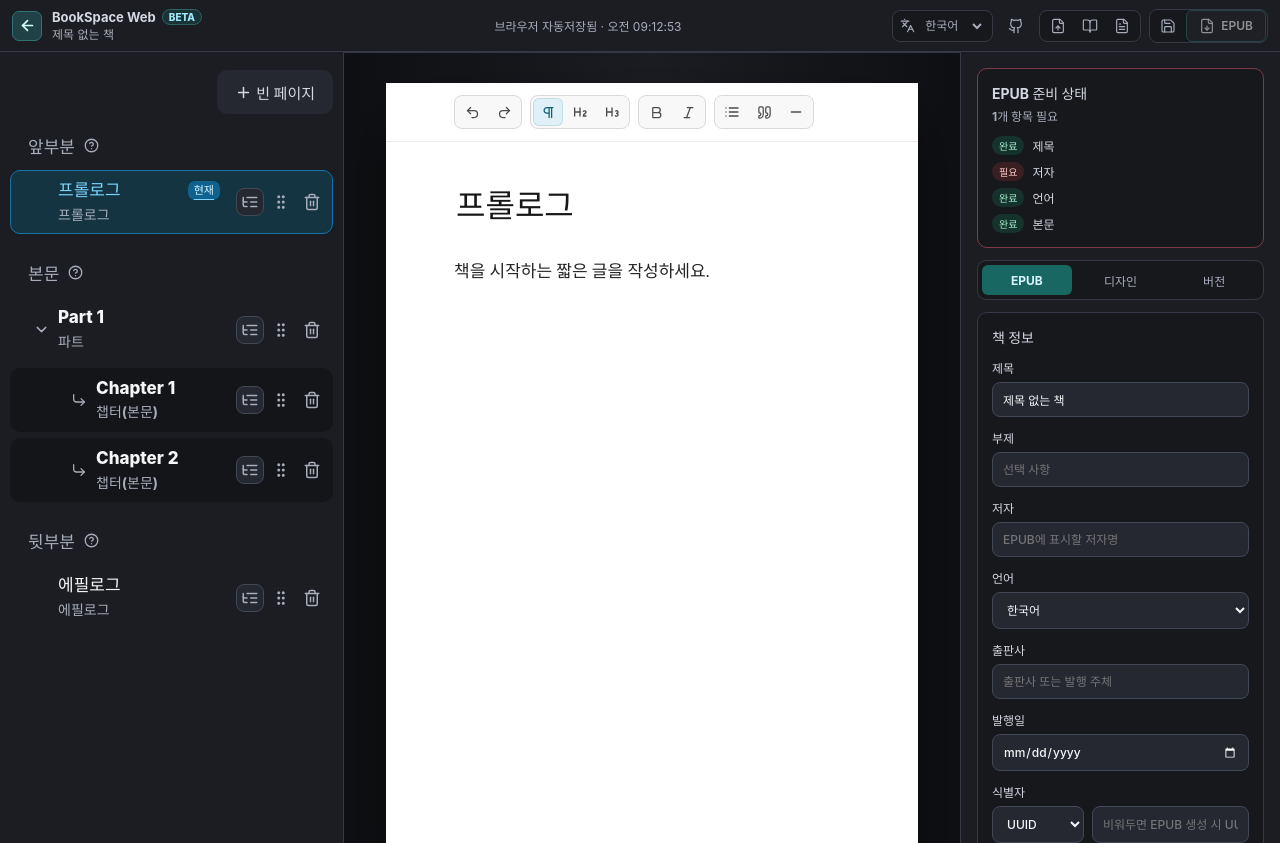
BookSpace Web editor › switches core editor chrome between Korean and English
This screenshot has width=1280, height=843.
Select "English" in the dropdown named "화면 언어". click: {"x": 953, "y": 26}
box: top-left (921, 12), bottom-right (985, 40)
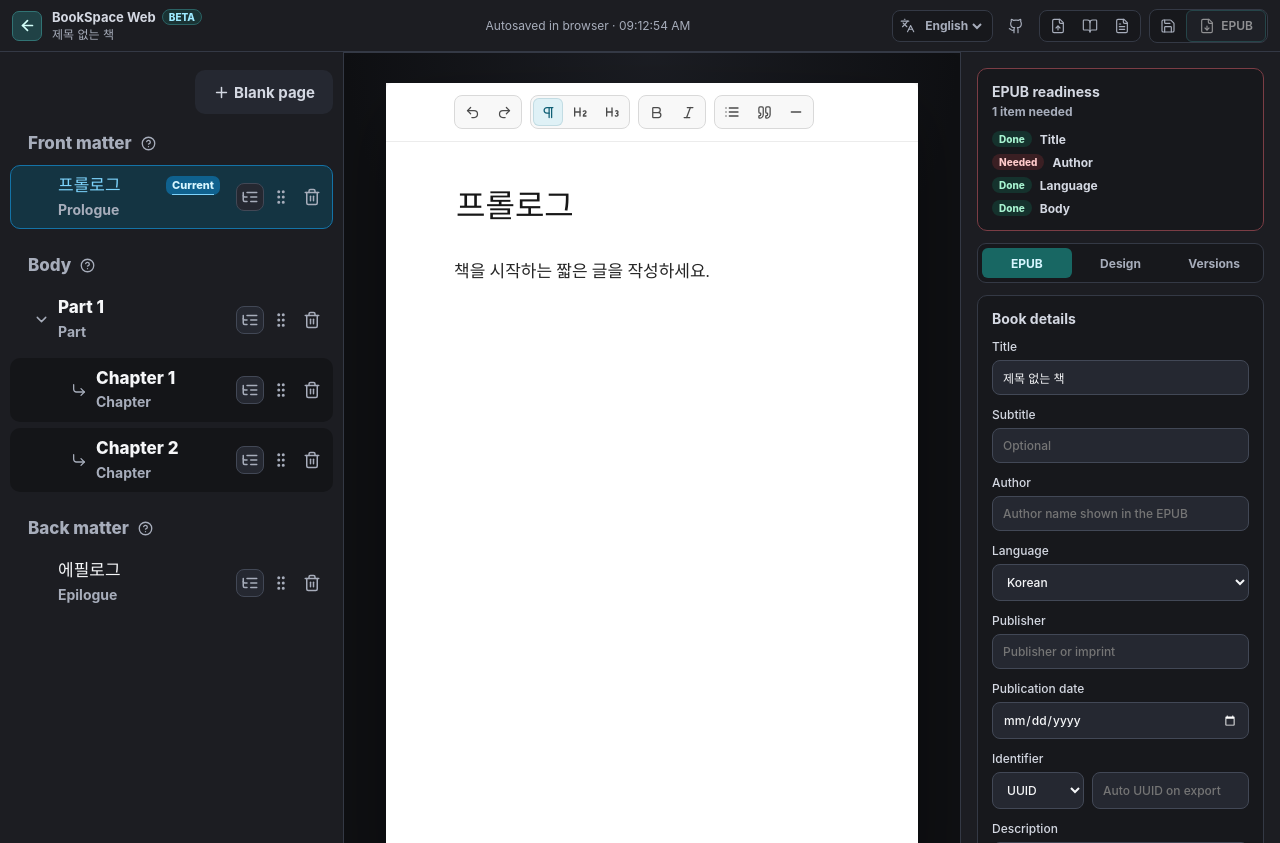
Check: the button "Blank page" is shown, box top-left (195, 70), bottom-right (333, 114)
Check: the text "Front matter" is shown, box top-left (28, 133), bottom-right (132, 153)
Check: the text "Back matter" is shown, box top-left (28, 518), bottom-right (129, 538)
Click the tab "Design". click: {"x": 1121, "y": 263}
box: top-left (1076, 248), bottom-right (1165, 278)
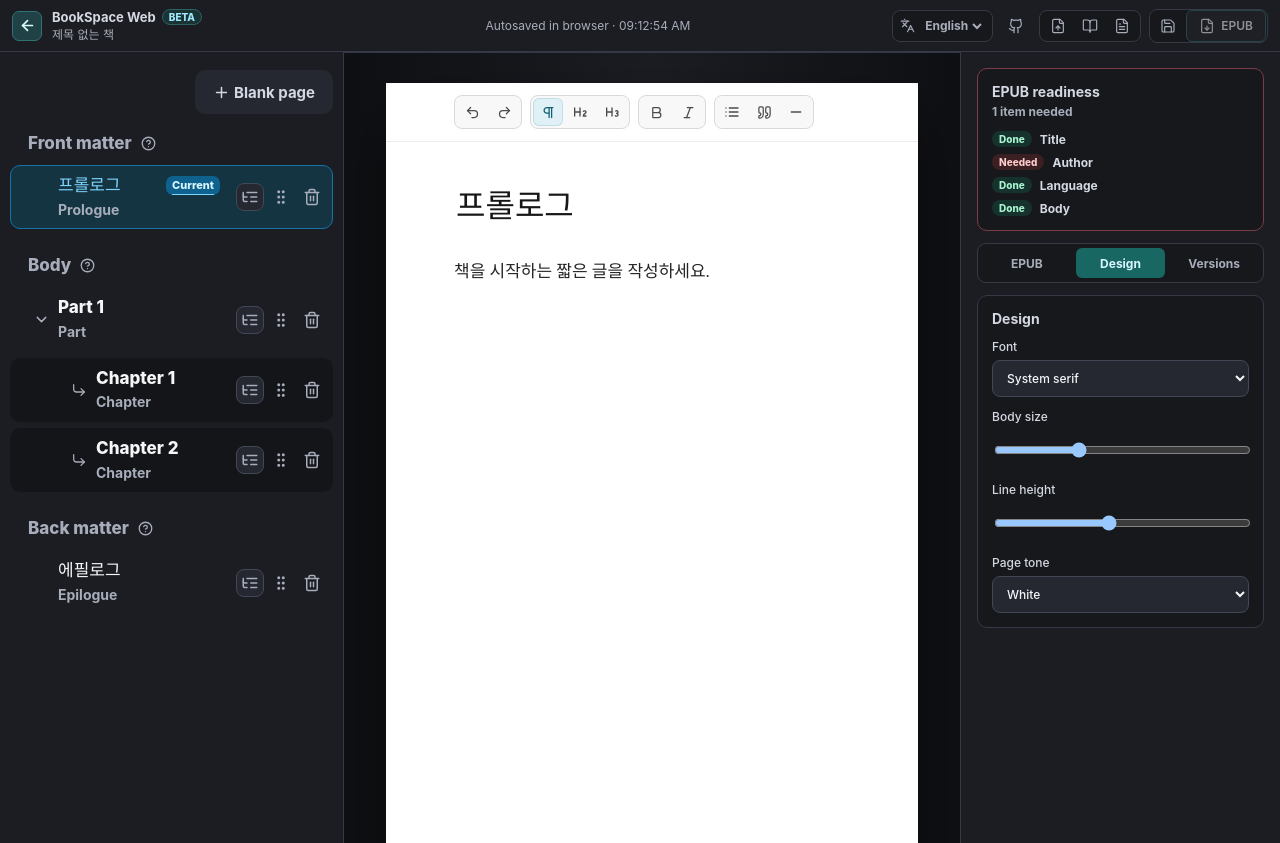
Check: the dropdown labelled "Font" is shown, box top-left (992, 360), bottom-right (1249, 397)
Click the tab "Versions". click: {"x": 1214, "y": 263}
box: top-left (1169, 248), bottom-right (1259, 278)
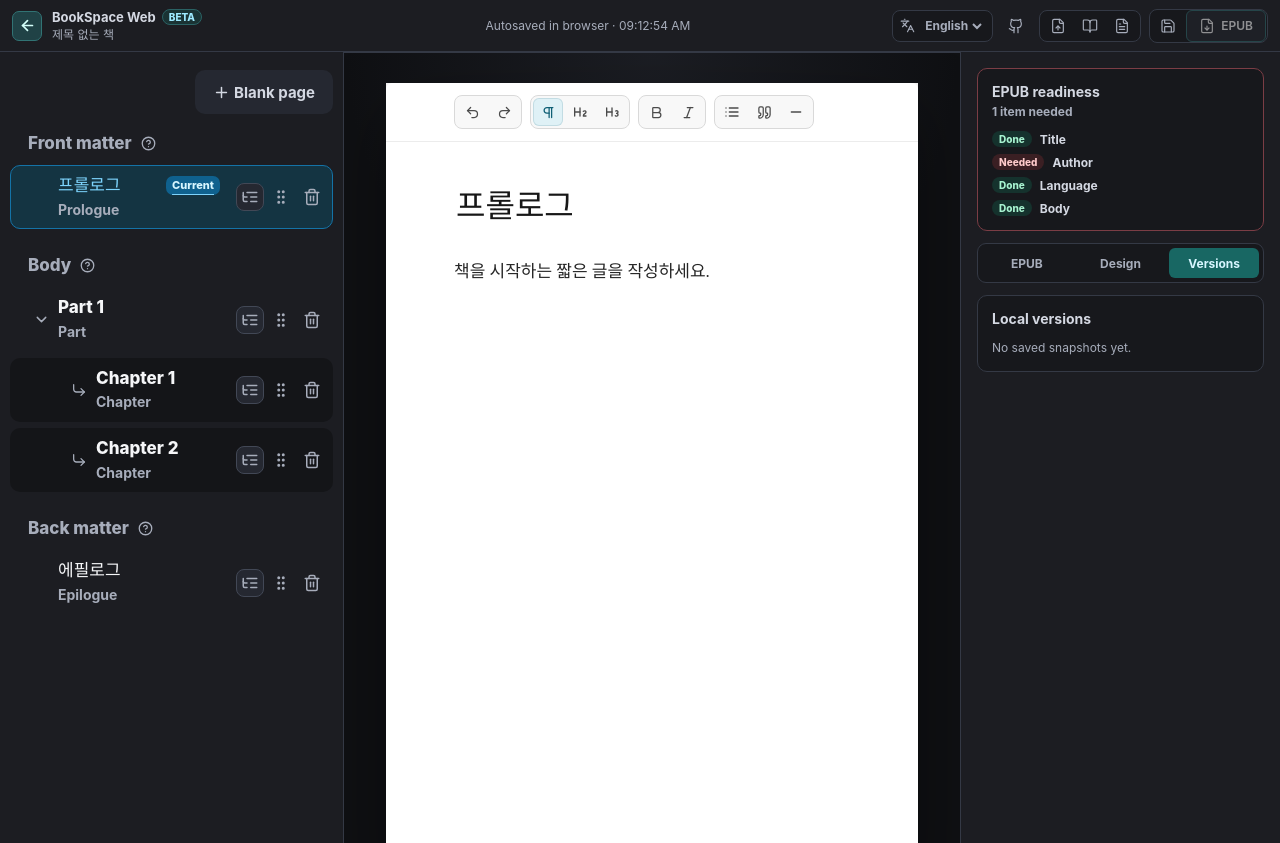
Check: the text "No saved snapshots yet." is shown, box top-left (992, 340), bottom-right (1131, 355)
Click the button named "Save project". click: {"x": 1168, "y": 26}
box: top-left (1153, 12), bottom-right (1183, 40)
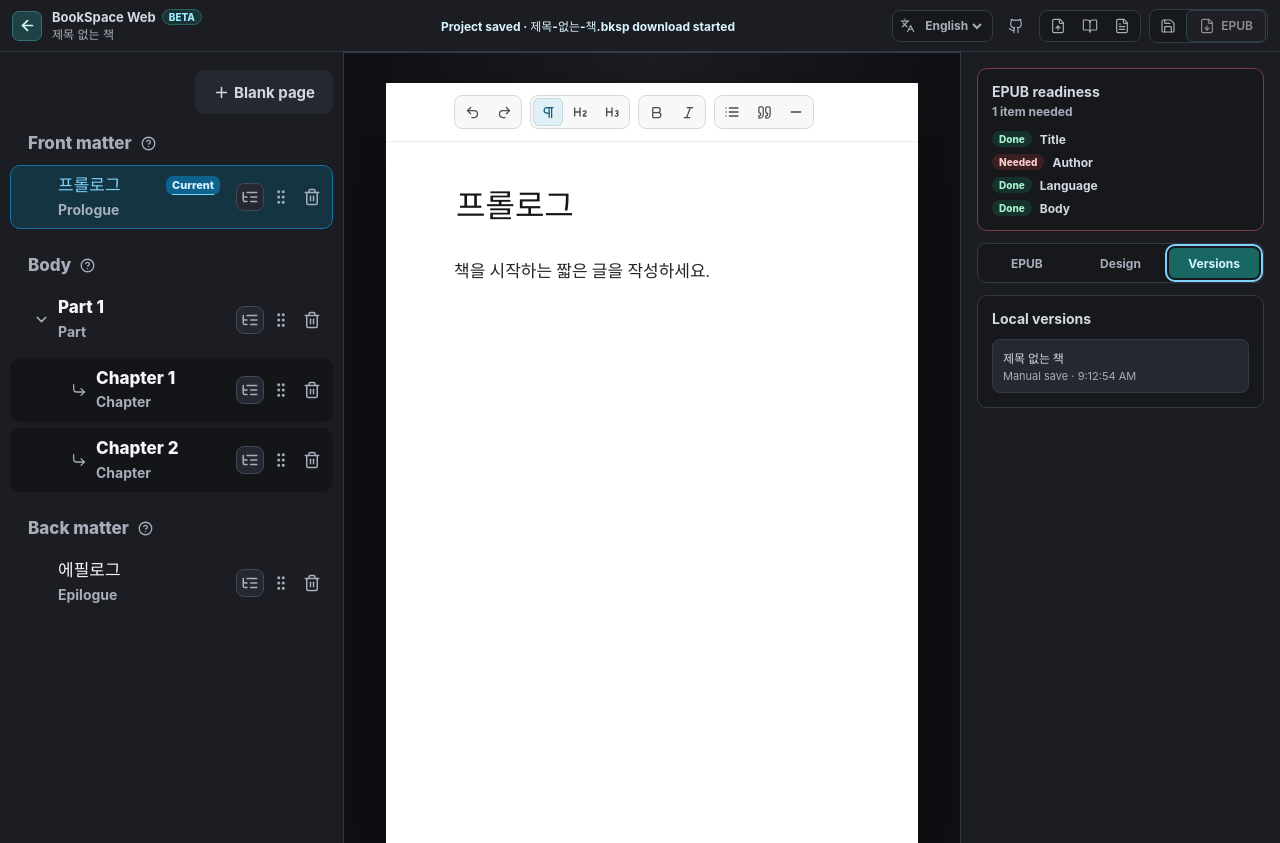
Check: the message shows "Project saved", box top-left (441, 19), bottom-right (735, 34)
